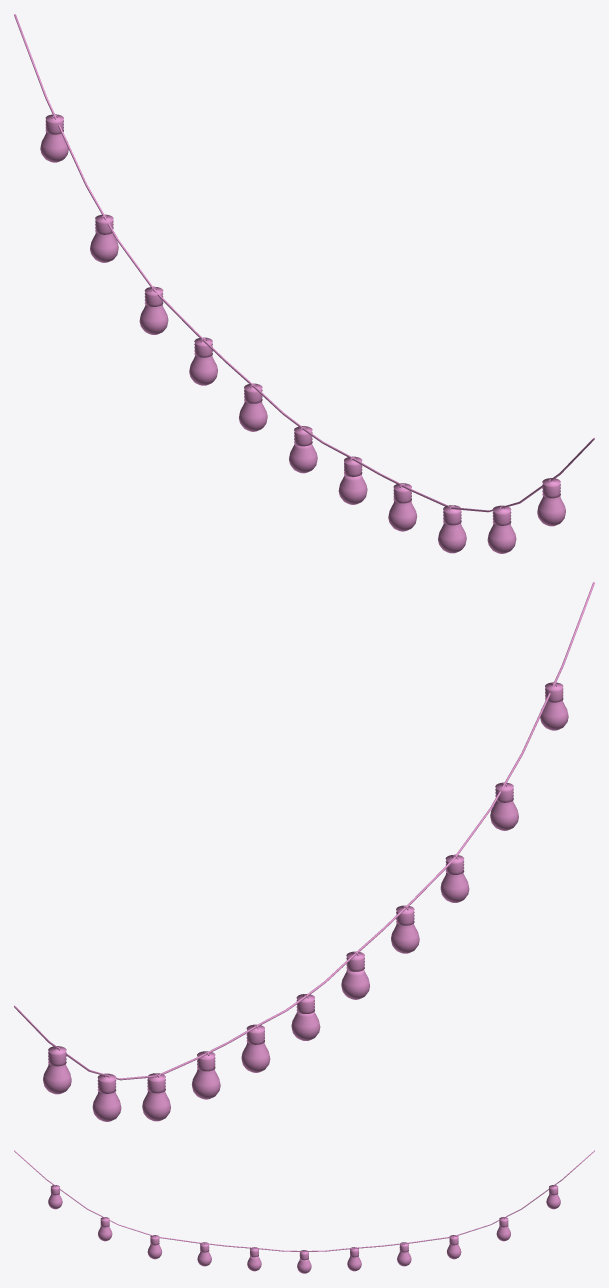
Rendered from longlämp 1.fbx.
3 views of the same model, one above another, from view 1: azimuth 30°, elevation 25°; view 2: azimuth 150°, elevation 25°; view 3: azimuth 270°, elevation 25° (orthographic). The views are drawn at different scales.
Parts seen in each view (by area): view 1: bulb, lamp, cable; view 2: bulb, lamp, cable; view 3: bulb, cable, lamp.
Part boxes in pixels (x1,y1,x2,y2): bulb: (40, 132, 565, 553); lamp: (45, 114, 560, 525); cable: (14, 14, 594, 512); bulb: (43, 700, 568, 1121); lamp: (48, 682, 563, 1093); cable: (14, 582, 594, 1080); bulb: (48, 1194, 560, 1273); cable: (14, 1150, 594, 1251); lamp: (50, 1185, 558, 1260).
Size of the model in its own units: 0.1536 by 1.43 by 6.09.
